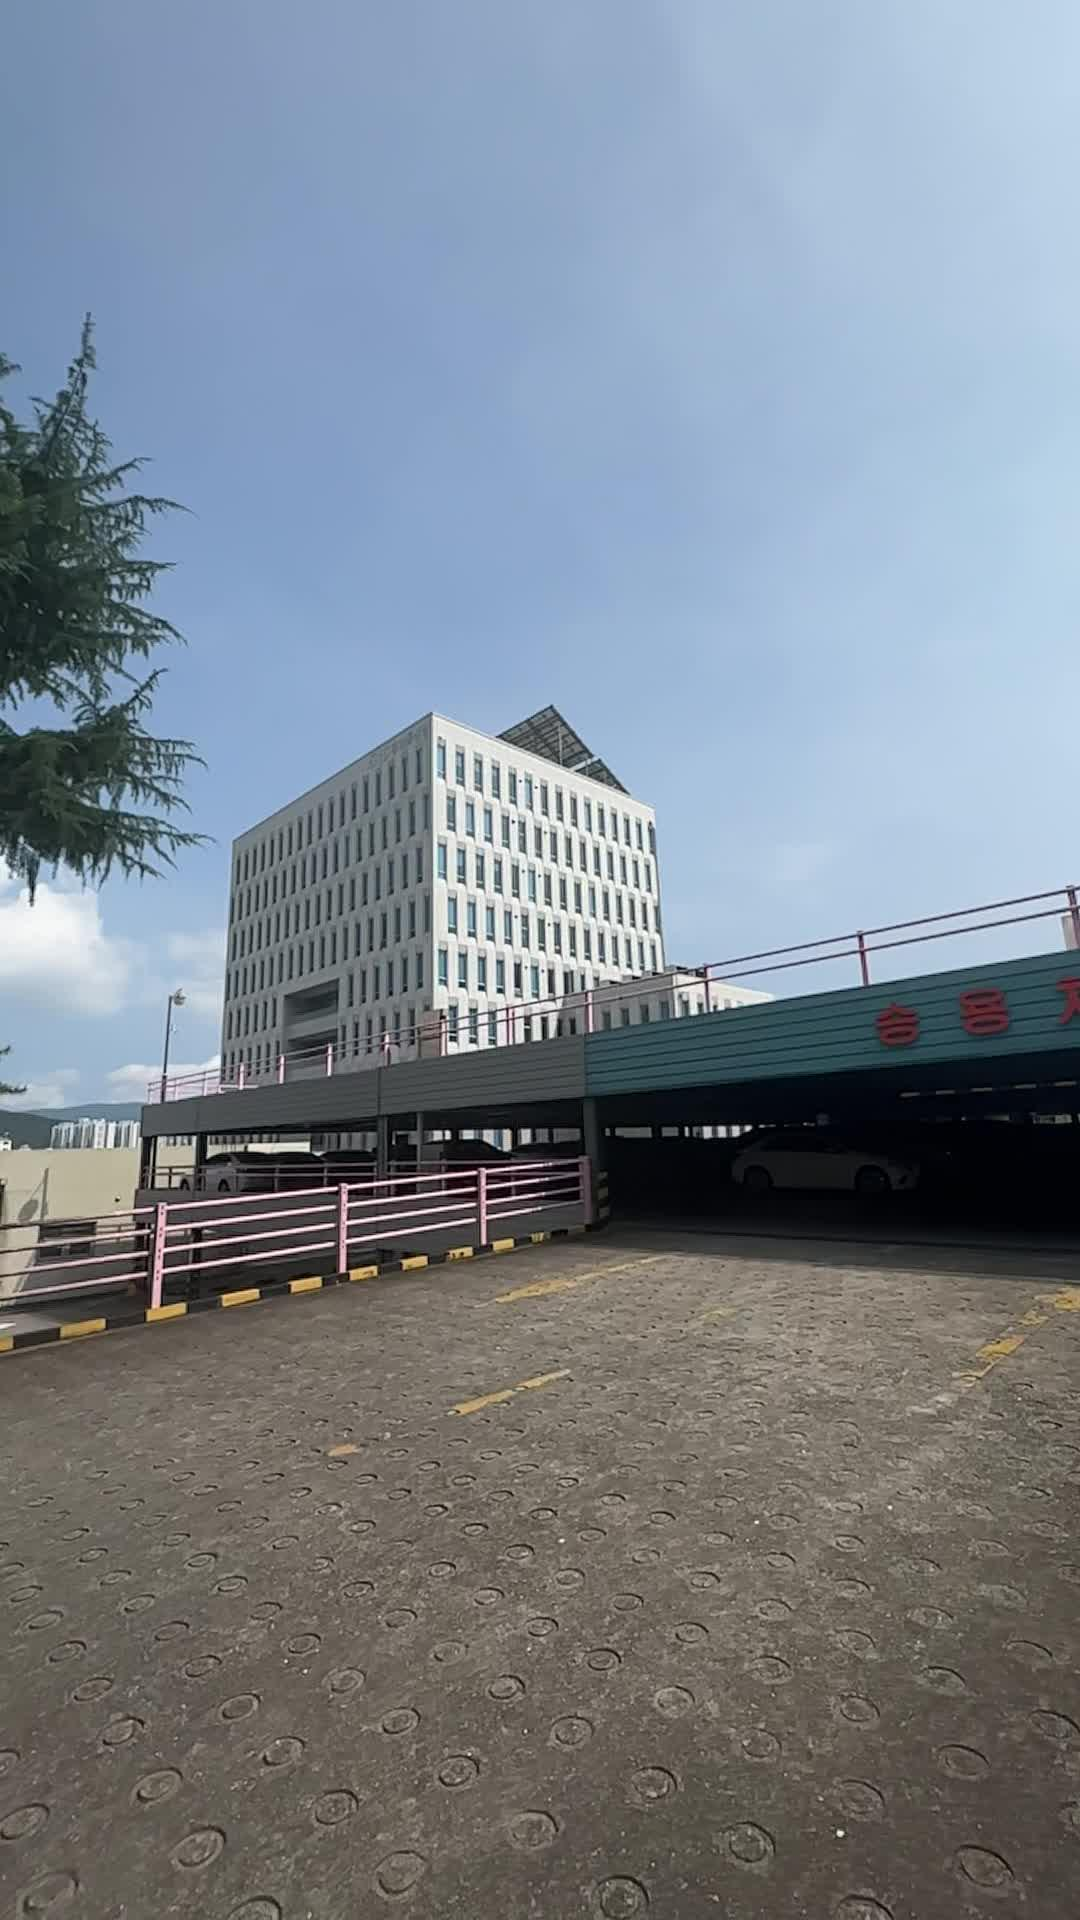building: (212, 659, 703, 1044)
